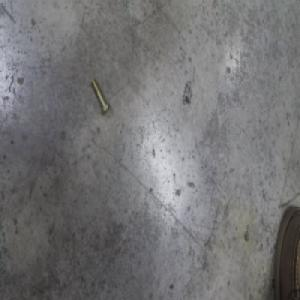Bolt: (90, 76, 110, 116)
